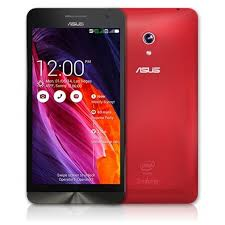asus: (23, 4, 200, 209), (22, 3, 129, 206), (118, 2, 200, 208)
